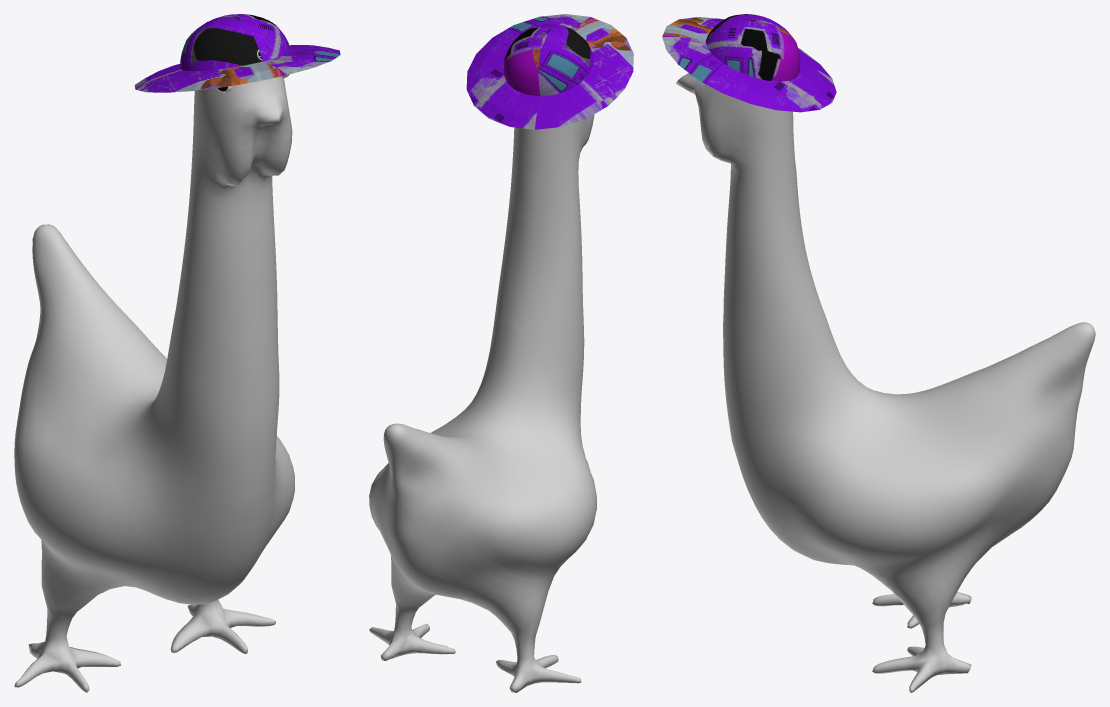
The model's file is ChickenScout.fbx.
3 views of the same model, side by side, from view 1: azimuth 30°, elevation 25°; view 2: azimuth 150°, elevation 25°; view 3: azimuth 270°, elevation 25° (orthographic). The views are drawn at different scales.
Parts seen in each view (by area): view 1: Chicken, pSphere1; view 2: Chicken, pSphere1; view 3: Chicken, pSphere1.
Part boxes in pixels (left/top/right/bottom): Chicken: left=14, top=76, right=294, bottom=692; pSphere1: left=134, top=14, right=340, bottom=92; Chicken: left=369, top=114, right=596, bottom=692; pSphere1: left=466, top=14, right=633, bottom=129; Chicken: left=675, top=73, right=1095, bottom=692; pSphere1: left=662, top=14, right=836, bottom=112.
Size of the model in its own units: 301 by 780 by 494.
